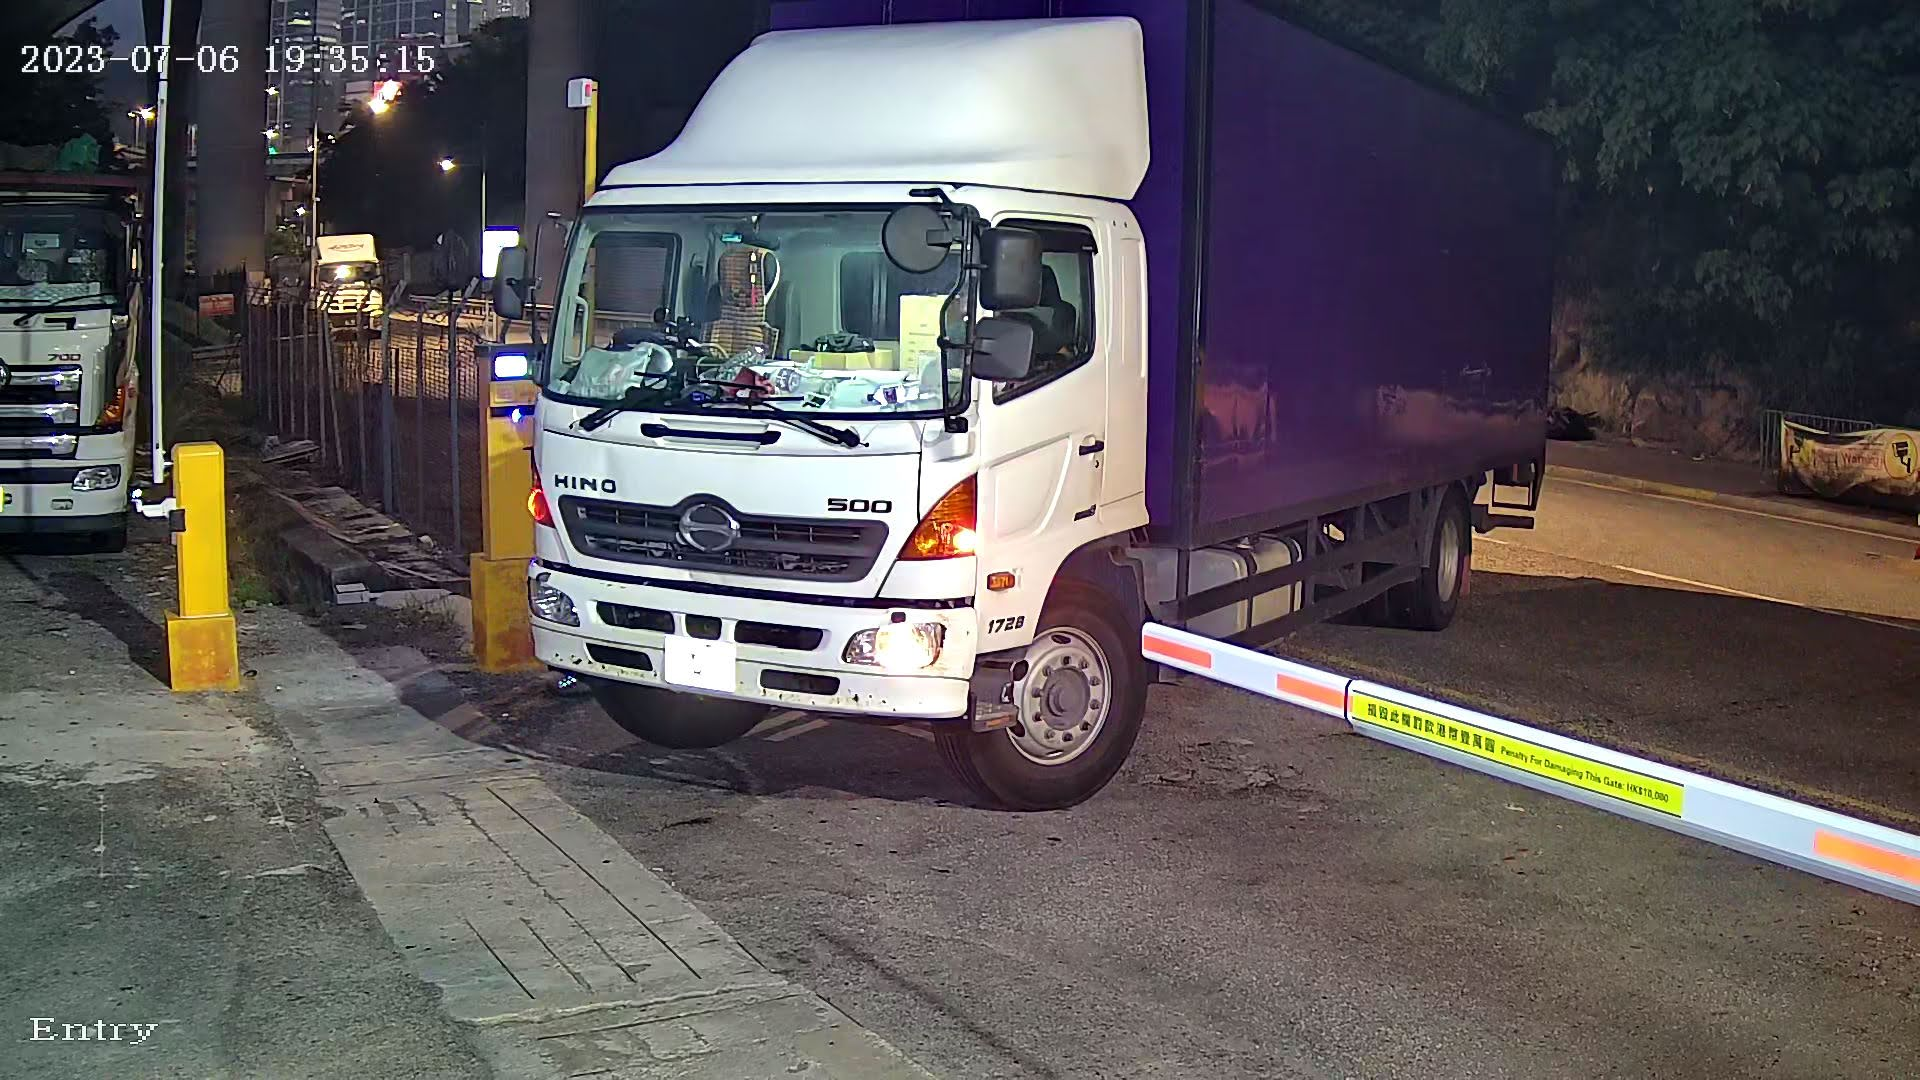truck_large: (491, 1, 1575, 839)
